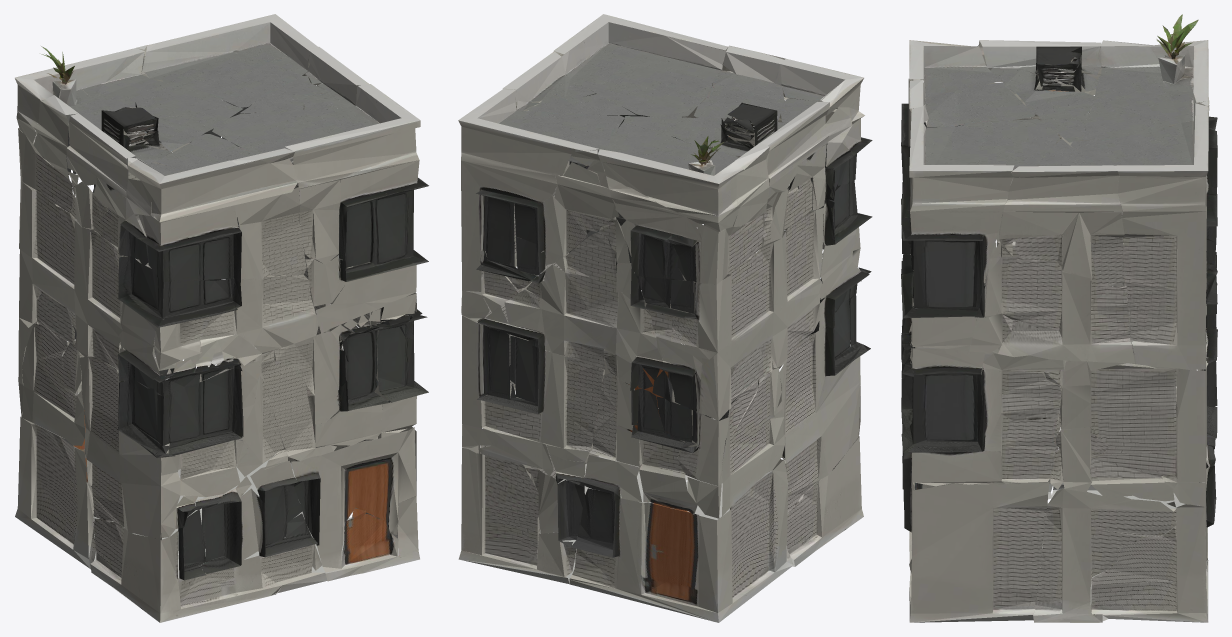
File: JHB_HeroBuilding04_LOD2.fbx
3 renders of one model, left to right at view 1: azimuth 30°, elevation 25°; view 2: azimuth 150°, elevation 25°; view 3: azimuth 270°, elevation 25°, orthographic. The views are drawn at different scales.
Visible parts, largest first — view 1: JHB_HeroBuilding04_LOD2; view 2: JHB_HeroBuilding04_LOD2; view 3: JHB_HeroBuilding04_LOD2.
Part boxes in pixels (x1,y1,x2,y2): JHB_HeroBuilding04_LOD2: (15,14,428,622); JHB_HeroBuilding04_LOD2: (458,14,872,622); JHB_HeroBuilding04_LOD2: (901,14,1217,622).
Bounding box in the file's own units: 10.95 × 18.07 × 10.69.
